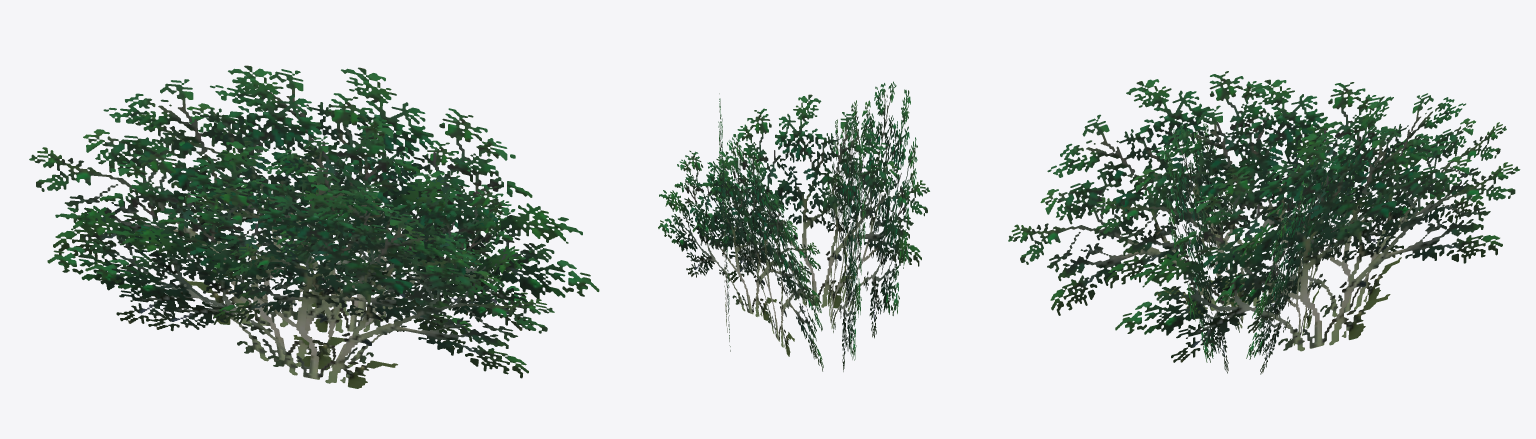
Rendered from grave_grass_lod1.glb.
3 views of the same model, side by side, from view 1: azimuth 30°, elevation 25°; view 2: azimuth 150°, elevation 25°; view 3: azimuth 270°, elevation 25° (orthographic). The views are drawn at different scales.
Parts seen in each view (by area): view 1: grave_grass_lod1; view 2: grave_grass_lod1; view 3: grave_grass_lod1.
Part boxes in pixels (bbox=[...]): grave_grass_lod1: bbox=[29, 65, 599, 388]; grave_grass_lod1: bbox=[658, 81, 929, 371]; grave_grass_lod1: bbox=[1008, 71, 1520, 374].
Bounding box in the file's own units: 6.44 × 4.28 × 8.29.
1 material, 1 textured.
